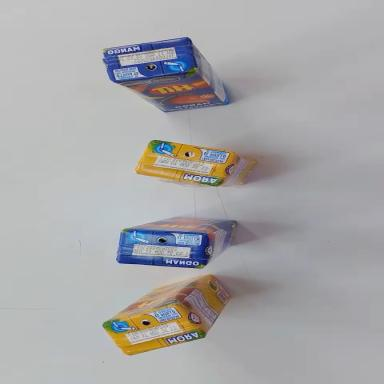HIT-MANGO: (102, 33, 229, 119), (116, 213, 237, 271)
HIT-MORA: (98, 271, 238, 360), (135, 138, 255, 193)
cara_F: (97, 272, 215, 324), (112, 67, 226, 119), (122, 214, 235, 237)
